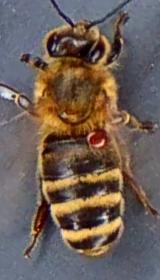varroa_mite: (78, 119, 114, 154)
